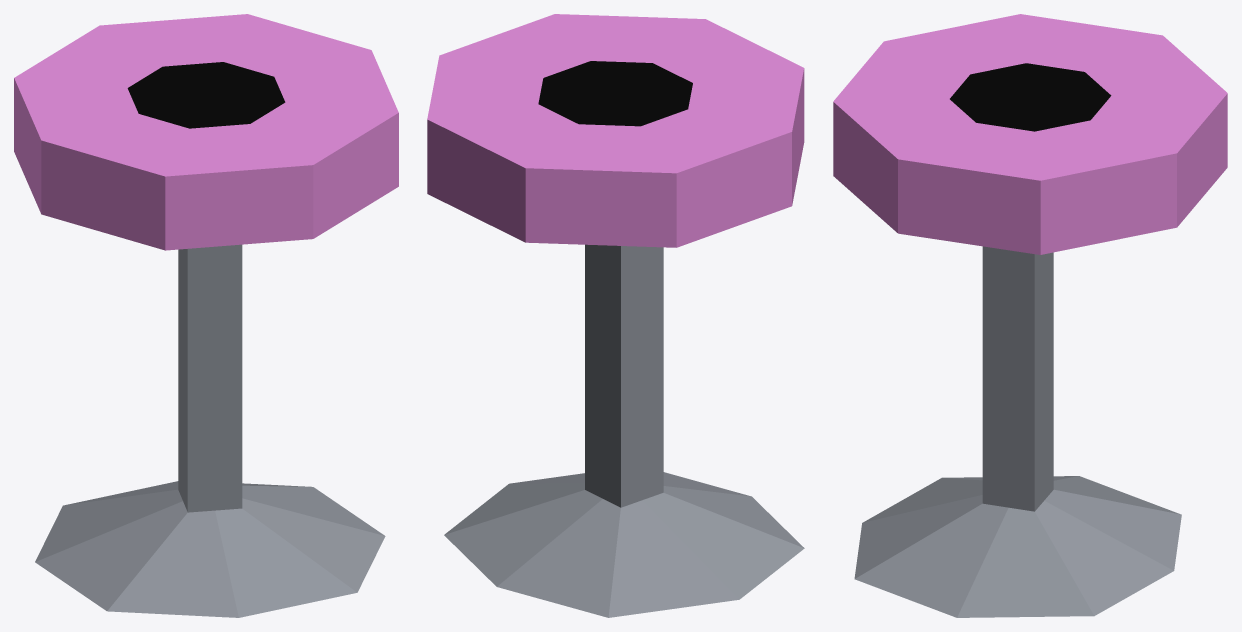
Rendered from Pink bar chair.fbx.
3 views of the same model, side by side, from view 1: azimuth 30°, elevation 25°; view 2: azimuth 150°, elevation 25°; view 3: azimuth 270°, elevation 25° (orthographic).
Parts seen in each view (by area): view 1: Cube.025; view 2: Cube.025; view 3: Cube.025.
Part boxes in pixels (x1,y1,x2,y2): Cube.025: (14, 14, 398, 617); Cube.025: (427, 14, 804, 617); Cube.025: (833, 14, 1227, 617).
Bounding box in the file's own units: 87.37 × 110 × 87.37.
